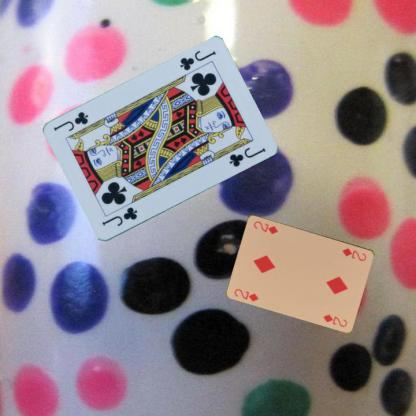2d: (232, 286, 260, 303), (340, 245, 367, 262)
Jc: (177, 48, 217, 72), (99, 205, 139, 228)
